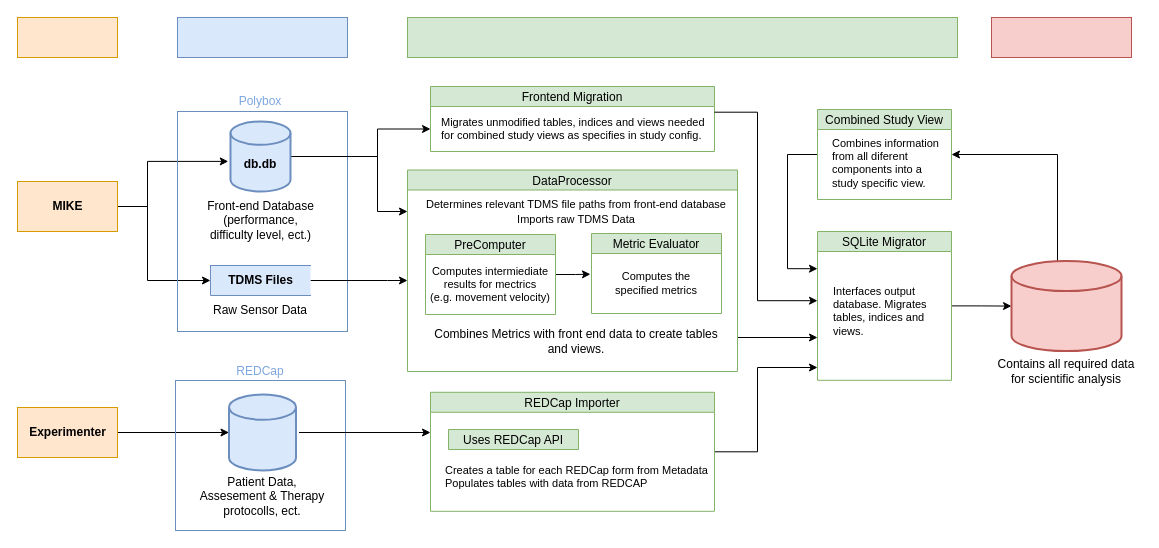
Image size: 1159x548. Some labels were removed from this diagram. The shapes that lost their labels are listed below. From the top down, each one's centre as x and y in pixels, then its label:
At [67,37]: "External Interactors".
At [262,37]: "Data Inputs".
At [682,37]: "Data Analysis Pipeline".
At [1061,37]: "Output Database".
At [1066,306]: "analysis_db.db".
At [262,432]: "Study protocol".
